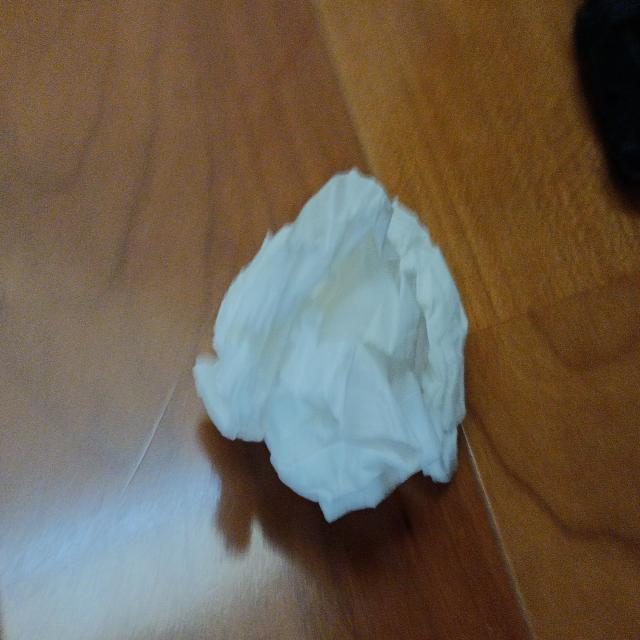Paper: (180, 153, 472, 512)
